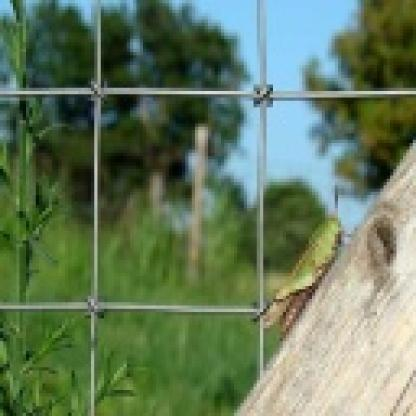grasshopper: (242, 176, 370, 354)
